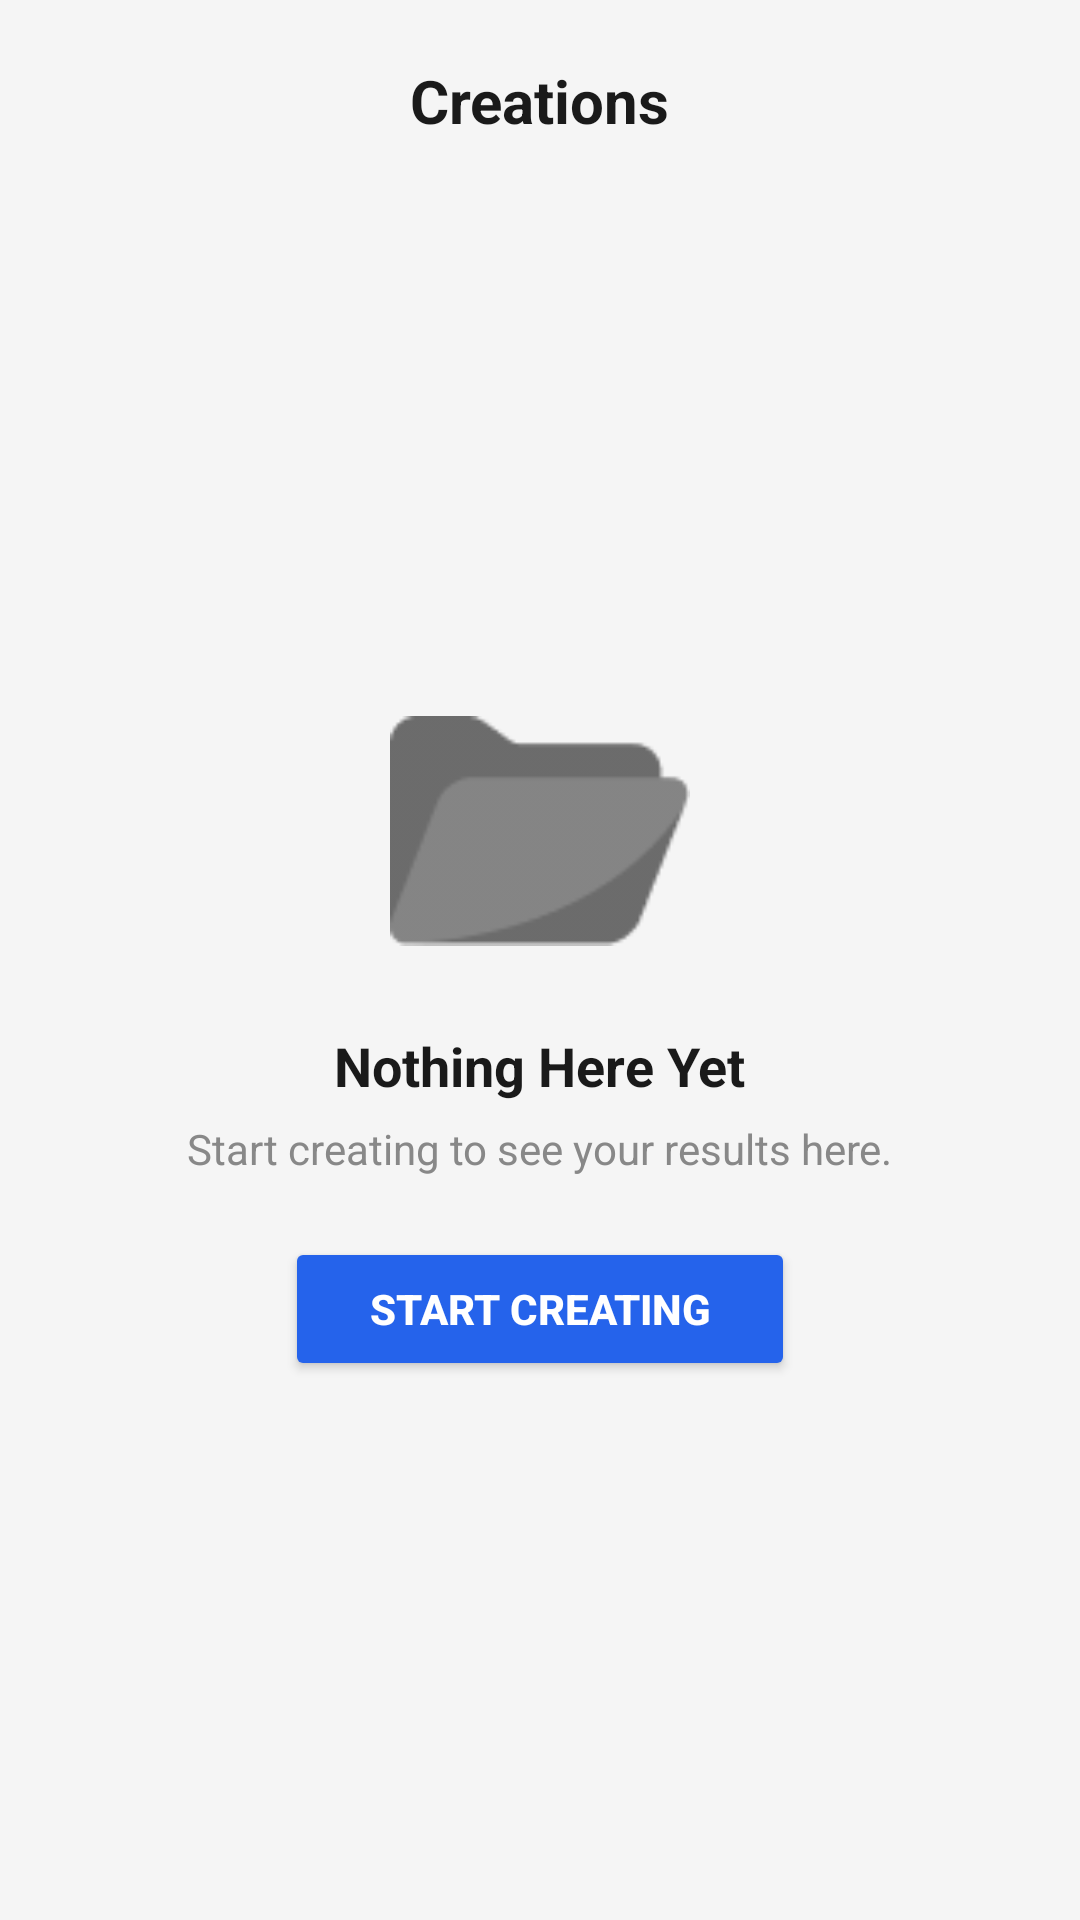

Icons on this 1080 x 1920 Android screen, each with its box as bbox=[x1, y1, x2, y2]:
Empty folder: bbox=[390, 716, 690, 946]
